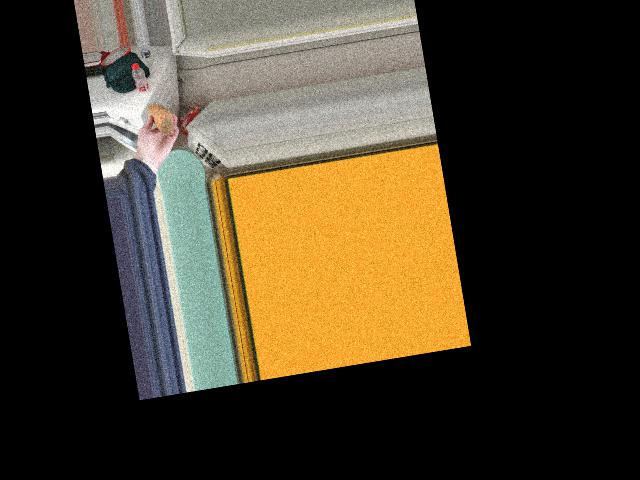sweet_potato: (148, 101, 174, 133)
